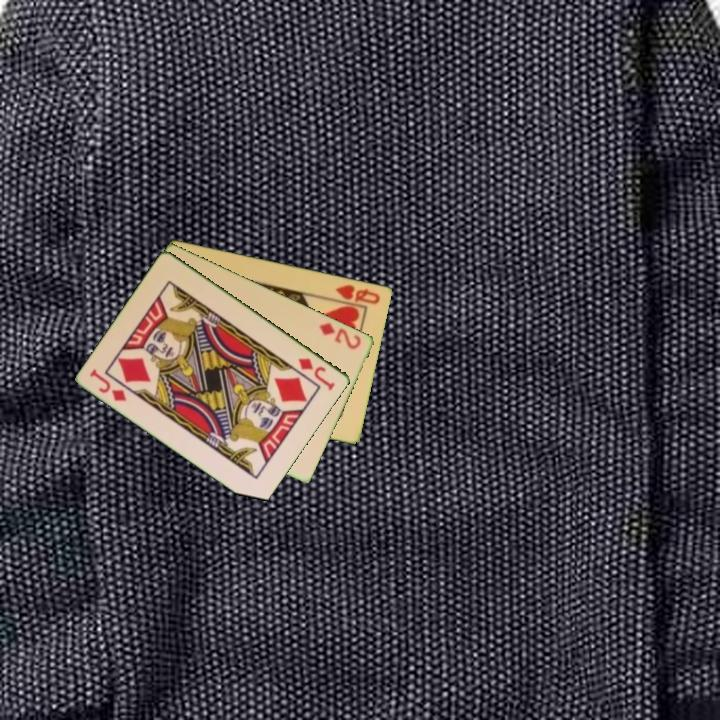2d: (316, 319, 364, 352)
Jd: (86, 365, 130, 404), (295, 354, 338, 393)
Qh: (332, 281, 383, 307)
